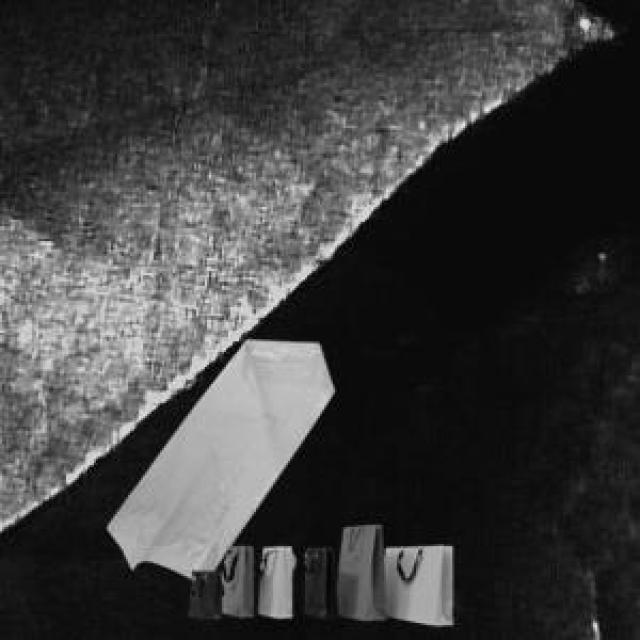paper: (185, 521, 447, 621)
